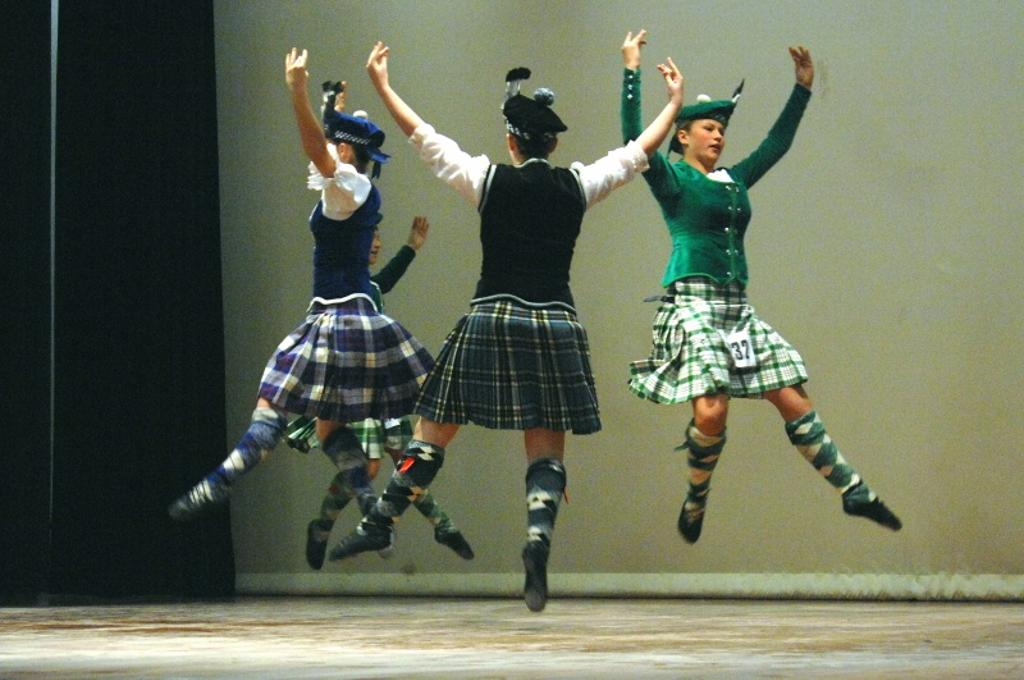face: (687, 119, 724, 158)
